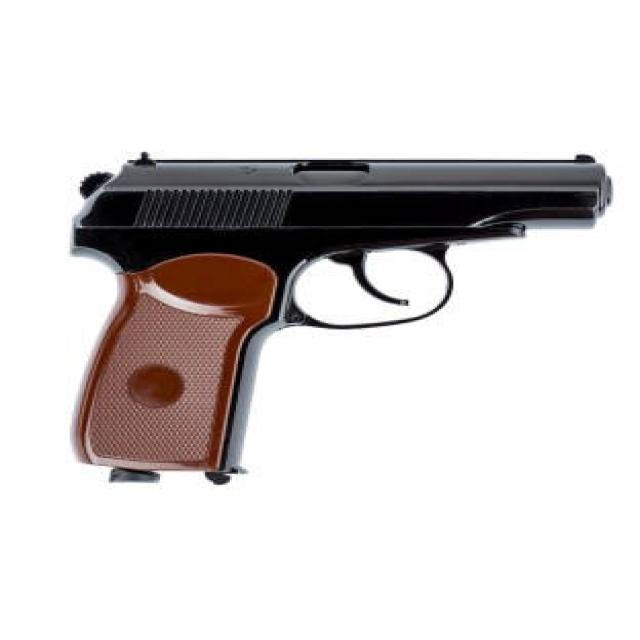pistol: (58, 149, 621, 492)
